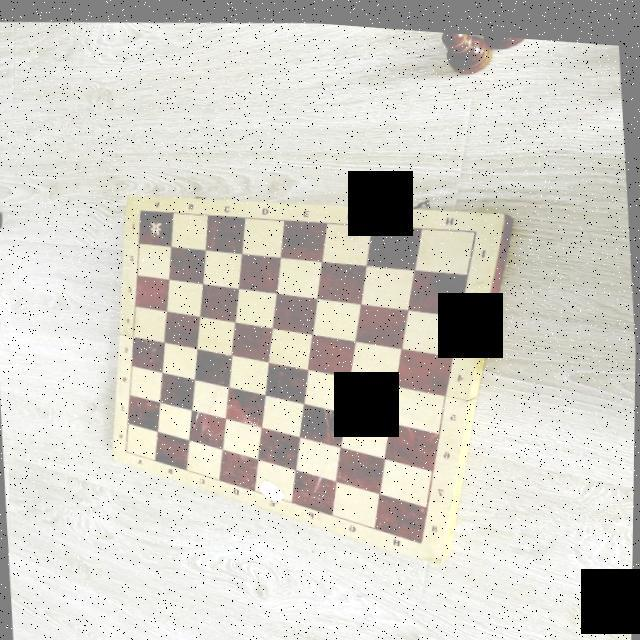chess-table-corners: (413, 530, 429, 542), (466, 220, 482, 230), (120, 443, 132, 455)
